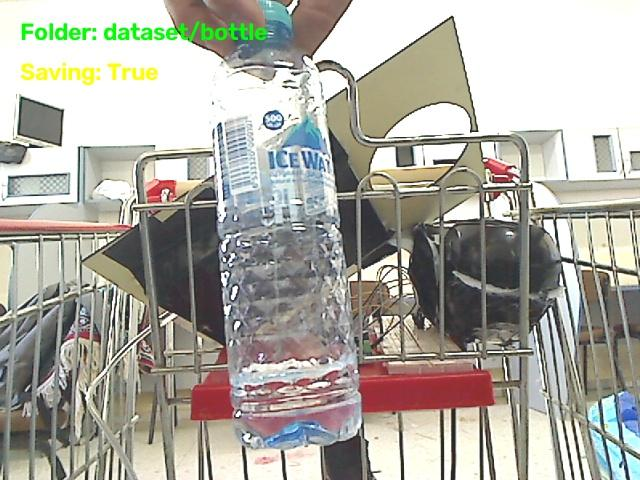Bottle: (213, 0, 360, 448)
